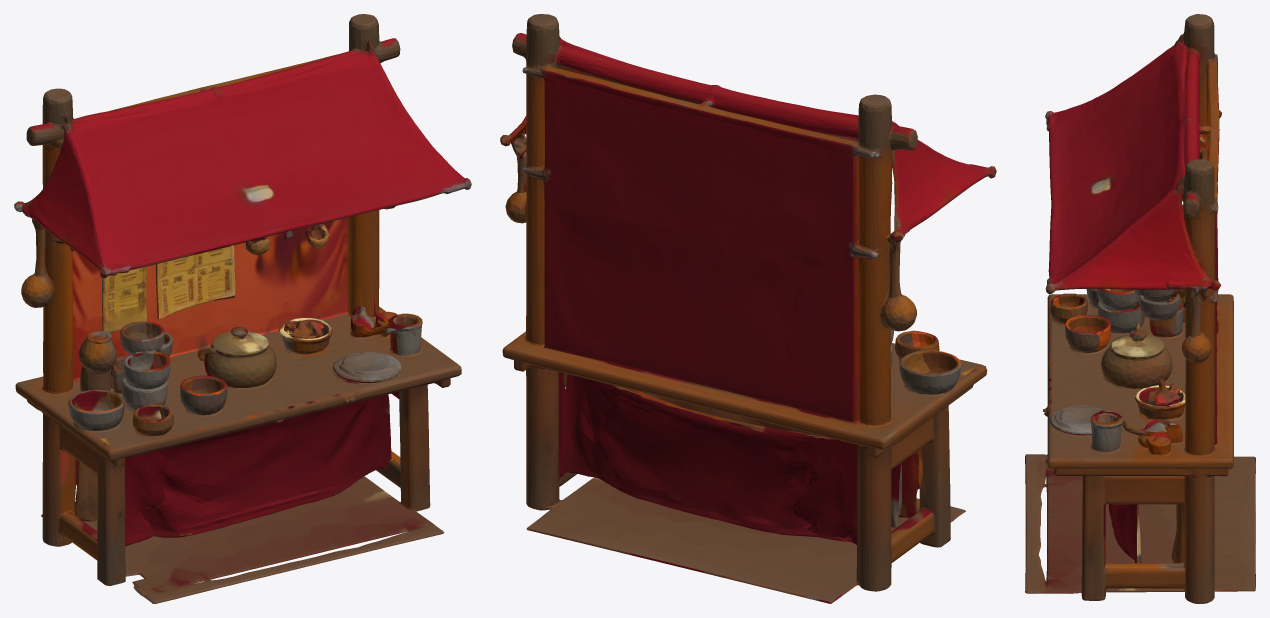
File: garak_backwall.glb
3 renders of one model, left to right at view 1: azimuth 30°, elevation 25°; view 2: azimuth 150°, elevation 25°; view 3: azimuth 270°, elevation 25°, orthographic. The views are drawn at different scales.
Visible parts, largest first — view 1: garak_backwall.obj; view 2: garak_backwall.obj; view 3: garak_backwall.obj.
Boxes of the visible parts, x1=… form: garak_backwall.obj: x1=14, y1=14, x2=471, y2=603; garak_backwall.obj: x1=500, y1=14, x2=996, y2=603; garak_backwall.obj: x1=1025, y1=14, x2=1255, y2=603.
Bounding box in the file's own units: 1.73 × 1.97 × 0.9492.
Materials: 1 (1 with a texture image).
